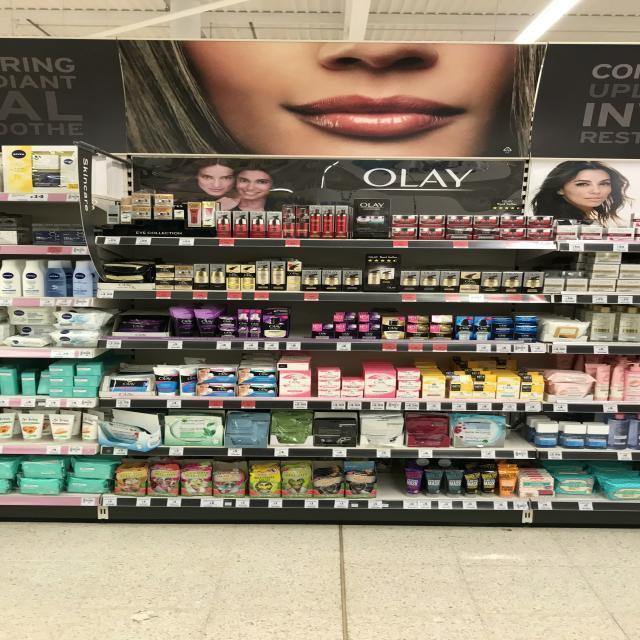Imprecise: (2, 321, 56, 349)
